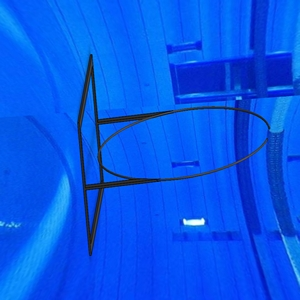circle: (76, 53, 272, 258)
